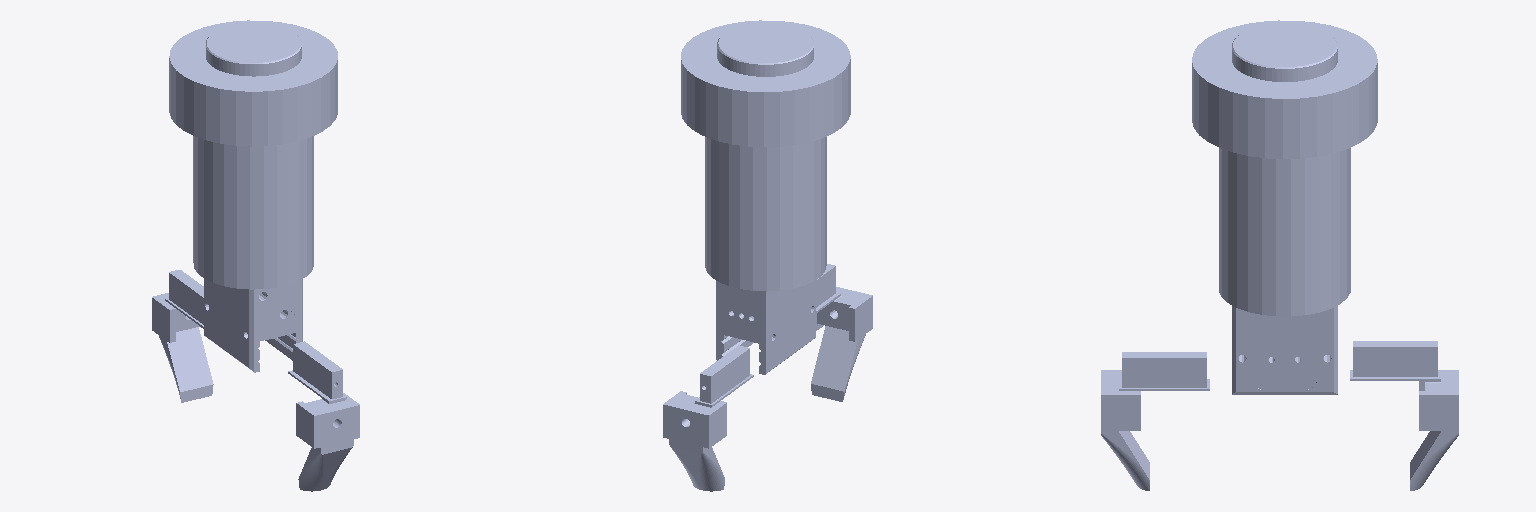
robot.urdf — final_fanuc_gripper:
<robot
  name="final_fanuc_gripper">
  <link
    name="fanuc_gripperbase">
    <inertial>
      <origin
        xyz="0.012996 0.067257 -0.020009"
        rpy="0 0 0" />
      <mass
        value="0.27006" />
      <inertia
        ixx="1"
        ixy="0"
        ixz="0"
        iyy="1"
        iyz="0"
        izz="1" />
    </inertial>
    <visual>
      <origin
        xyz="0 0 0"
        rpy="0 0 0" />
      <geometry>
        <mesh
          filename="package://final_fanuc_gripper/meshes/fanuc_gripperbase.STL" />
      </geometry>
      <material
        name="">
        <color
          rgba="0.79216 0.81961 0.93333 1" />
      </material>
    </visual>
    <collision>
      <origin
        xyz="0 0 0"
        rpy="0 0 0" />
      <geometry>
        <mesh
          filename="package://final_fanuc_gripper/meshes/fanuc_gripperbase.STL" />
      </geometry>
    </collision>
  </link>
  <link
    name="fanuc_finger1">
    <inertial>
      <origin
        xyz="0.0092185 0.0021216 0.029068"
        rpy="0 0 0" />
      <mass
        value="5" />
      <inertia
        ixx="1"
        ixy="0"
        ixz="0"
        iyy="1"
        iyz="0"
        izz="1" />
    </inertial>
    <visual>
      <origin
        xyz="0 0 0"
        rpy="0 0 0" />
      <geometry>
        <mesh
          filename="package://final_fanuc_gripper/meshes/fanuc_finger1.STL" />
      </geometry>
      <material
        name="">
        <color
          rgba="0.79216 0.81961 0.93333 1" />
      </material>
    </visual>
    <collision>
      <origin
        xyz="0 0 0"
        rpy="0 0 0" />
      <geometry>
        <mesh
          filename="package://final_fanuc_gripper/meshes/fanuc_finger1.STL" />
      </geometry>
    </collision>
  </link>
  <joint
    name="fanuc_prism1"
    type="prismatic">
    <origin
      xyz="0.021 0.044616 -0.0318"
      rpy="1.5708 0 3.1416" />
    <parent
      link="fanuc_gripperbase" />
    <child
      link="fanuc_finger1" />
    <axis
      xyz="0 0 -1" />
    <limit
      lower="-0.05"
      upper="0.05"
      effort="1000"
      velocity="1000" />
  </joint>
  <link
    name="fanuc_finger2">
    <inertial>
      <origin
        xyz="0.0092185 0.0021216 0.029068"
        rpy="0 0 0" />
      <mass
        value="5" />
      <inertia
        ixx="1"
        ixy="0"
        ixz="0"
        iyy="1"
        iyz="0"
        izz="1" />
    </inertial>
    <visual>
      <origin
        xyz="0 0 0"
        rpy="0 0 0" />
      <geometry>
        <mesh
          filename="package://final_fanuc_gripper/meshes/fanuc_finger2.STL" />
      </geometry>
      <material
        name="">
        <color
          rgba="0.79216 0.81961 0.93333 1" />
      </material>
    </visual>
    <collision>
      <origin
        xyz="0 0 0"
        rpy="0 0 0" />
      <geometry>
        <mesh
          filename="package://final_fanuc_gripper/meshes/fanuc_finger2.STL" />
      </geometry>
    </collision>
  </link>
  <joint
    name="fanuc_prism2"
    type="prismatic">
    <origin
      xyz="0.005 -0.0082749 -0.0318"
      rpy="1.5708 0 0" />
    <parent
      link="fanuc_gripperbase" />
    <child
      link="fanuc_finger2" />
    <axis
      xyz="0 0 1" />
    <limit
      lower="-0.05"
      upper="0.05"
      effort="1000"
      velocity="1000" />
  </joint>
</robot>

--- What the picture shows (computed from the rendered views, not written in the file) ---
3 views of the same robot in one strip: view 1: azimuth 30°, elevation 25°; view 2: azimuth 150°, elevation 25°; view 3: azimuth 270°, elevation 25° (orthographic).
Robot: final_fanuc_gripper — 3 links, 2 joints (2 prismatic); root link fanuc_gripperbase; default pose: all joints at 0.
Visible links, largest first — view 1: fanuc_gripperbase, fanuc_finger2, fanuc_finger1; view 2: fanuc_gripperbase, fanuc_finger1, fanuc_finger2; view 3: fanuc_gripperbase, fanuc_finger1, fanuc_finger2.
Boxes of the visible links, x1,y1,x2,y2 form: fanuc_gripperbase: [169, 20, 337, 372]; fanuc_finger2: [288, 341, 359, 491]; fanuc_finger1: [152, 270, 213, 402]; fanuc_gripperbase: [681, 20, 850, 374]; fanuc_finger1: [663, 345, 753, 491]; fanuc_finger2: [811, 264, 872, 401]; fanuc_gripperbase: [1192, 20, 1377, 394]; fanuc_finger1: [1350, 341, 1458, 490]; fanuc_finger2: [1101, 352, 1209, 490].
Bounding box of the posed robot: 0.0699 × 0.1349 × 0.1818 m (x, y, z).
Meshes: 3 distinct files referenced, 3 mesh visuals loaded (3 binary STL).